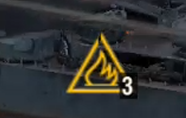3fire: (63, 57, 137, 99)
